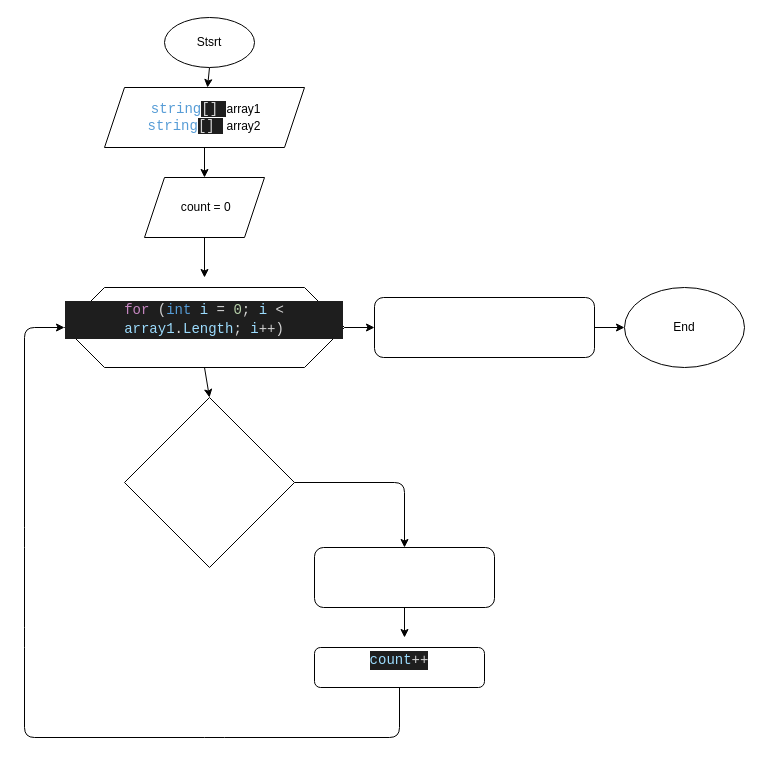
Some shapes in this 762 by 763 pixel diagram are drawn without their labels. Here are the shapes that lost their labels. From the top down, the centre of each, then its label:
pixel 484 327: Console . Write ( $" { array [ i ]} " )
pixel 209 482: if ( array1 [ i ] . Length <= 3 )
pixel 404 577: array2 [ count ] = array1 [ i ]
